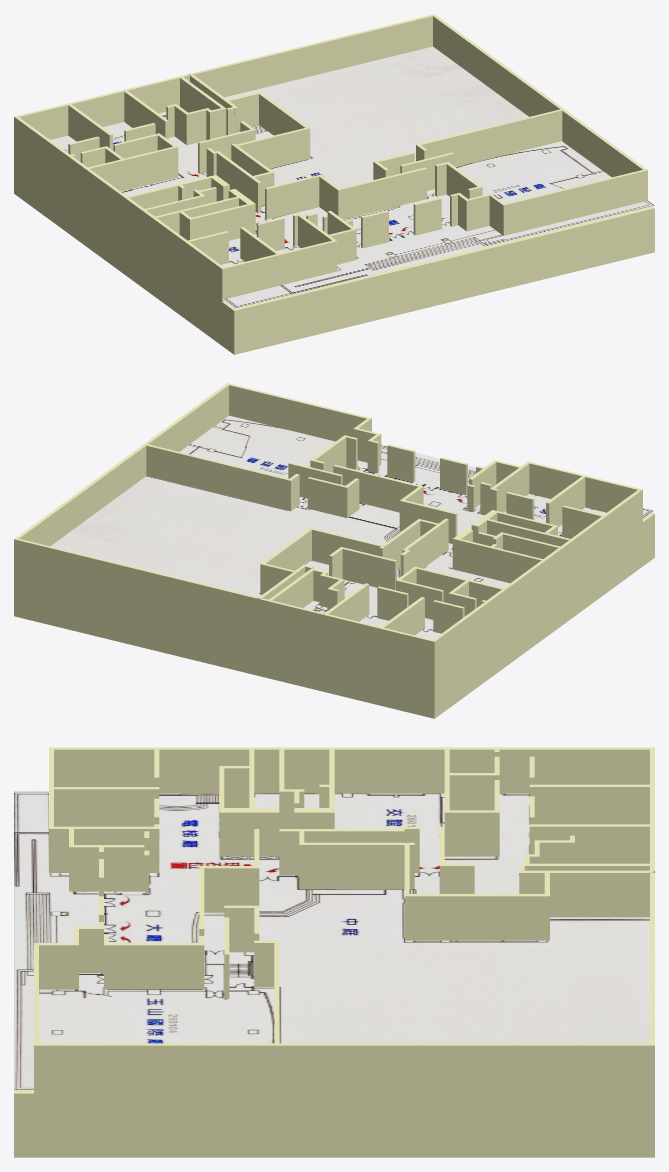
The model's file is College-of-Commerce-1F-cube.glb.
3 renders of one model, top to bottom at view 1: azimuth 30°, elevation 25°; view 2: azimuth 150°, elevation 25°; view 3: azimuth 270°, elevation 25°, orthographic. The views are drawn at different scales.
Visible parts, largest first — view 1: Cube, Plane; view 2: Cube, Plane; view 3: Cube, Plane.
Boxes of the visible parts, x1,y1,x2,y2 form: Cube: (14,14,654,354); Plane: (50,46,654,308); Cube: (14,383,654,718); Plane: (50,415,654,639); Cube: (14,747,654,1157); Plane: (14,791,654,1089).
Size of the model in its own units: 40.01 by 7.04 by 36.3.
Materials: 2 (1 with a texture image).
